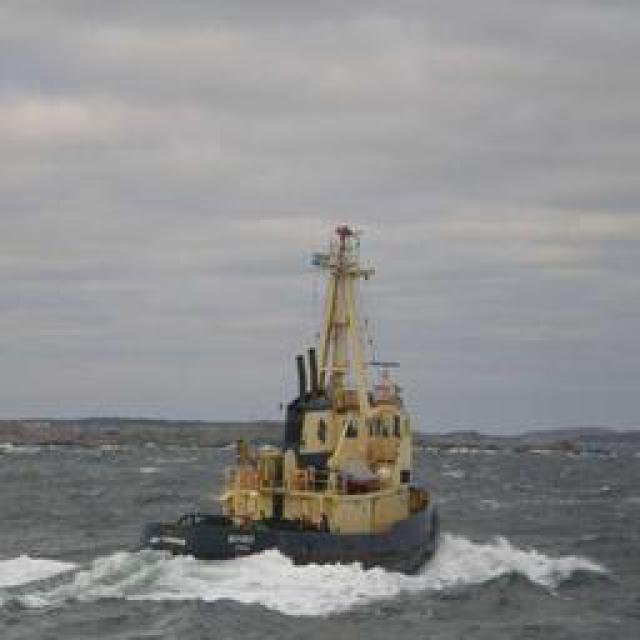Ship: (176, 218, 439, 573)
